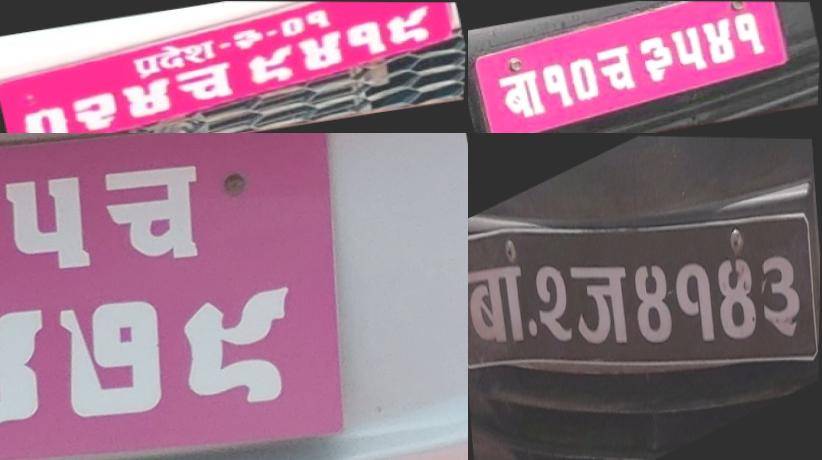0: (564, 53, 606, 105), (18, 103, 77, 133), (277, 15, 305, 37)
1: (671, 243, 719, 361), (535, 59, 580, 114), (728, 9, 773, 64), (343, 20, 387, 56), (303, 7, 333, 30)
2: (532, 250, 576, 360), (67, 90, 122, 133)
3: (758, 230, 808, 354), (634, 31, 682, 88), (229, 26, 266, 53)
4: (0, 280, 77, 451), (714, 239, 761, 358), (630, 243, 677, 361), (697, 15, 742, 70), (118, 77, 178, 117), (294, 30, 348, 73)
5: (0, 156, 108, 292), (665, 22, 713, 79)
7: (45, 277, 184, 433)
9: (165, 267, 320, 432), (240, 44, 300, 84), (382, 5, 435, 47)
ba: (468, 236, 531, 372), (492, 64, 553, 126)
cha: (89, 140, 222, 283), (591, 42, 641, 98), (173, 61, 238, 104)
ja: (566, 232, 635, 376)
